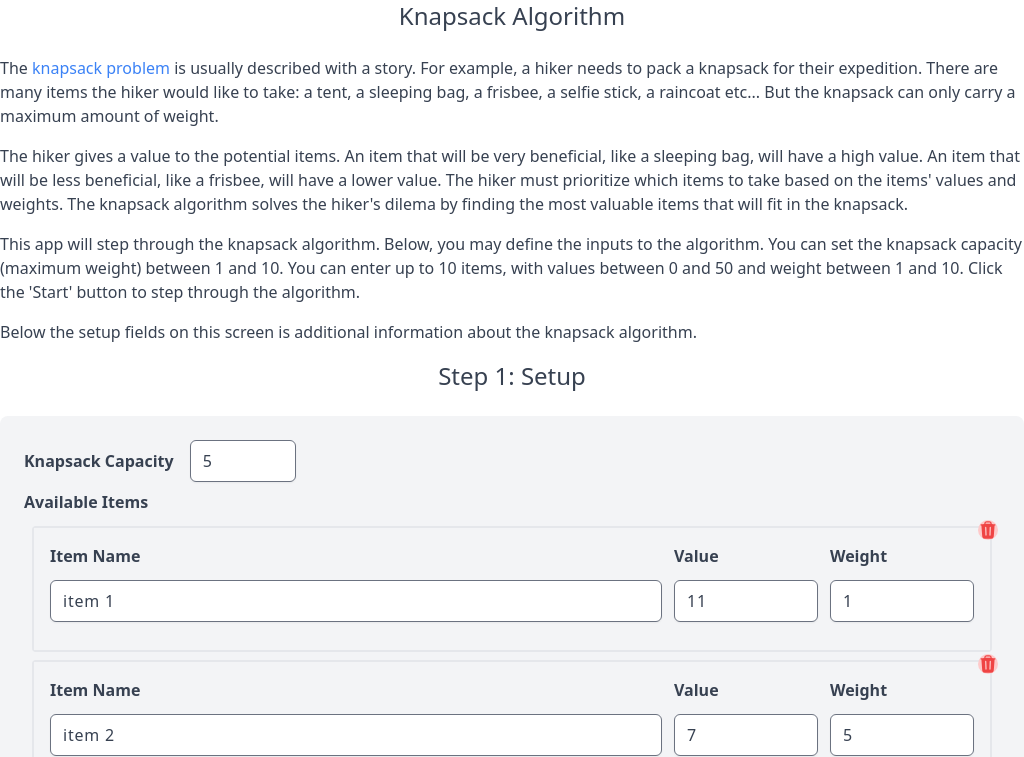
Test: test the setup screen › should treat item names that are the same but with different cases as duplicates
Replace the text in the field showing "item 1" with "ITEM 2" at coordinates (356, 601), box [50,580,662,622]
(page scrolled)
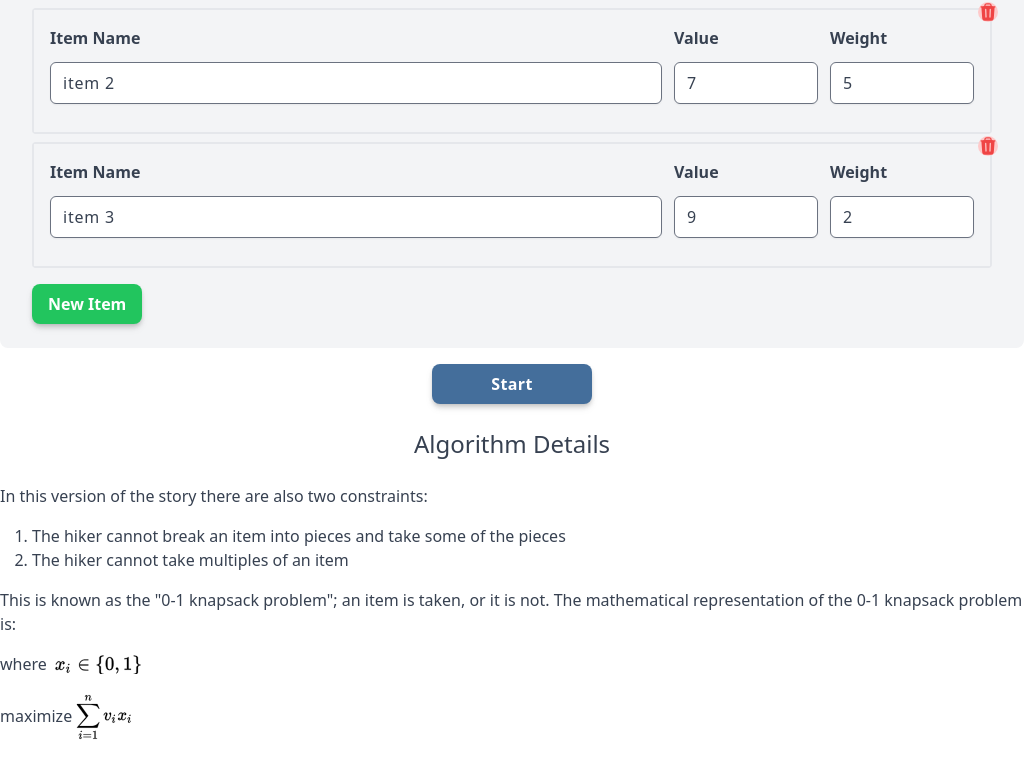
Click the button "Start" at coordinates (512, 384), box [432,364,592,404]
(page scrolled)
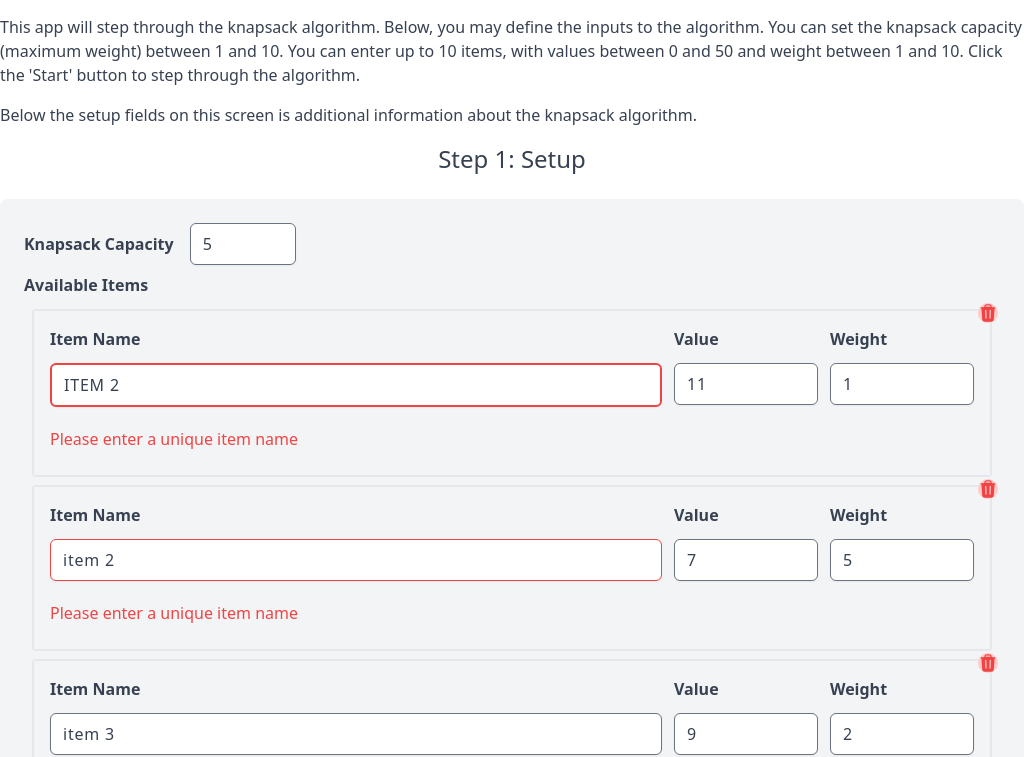
Expected: the number of messages is 2, [50,428,298,450]; [50,602,298,624]
Expected: the 1st text "Please enter a unique item name" is shown, [50,428,298,450]
Expected: the 2nd text "Please enter a unique item name" is shown, [50,602,298,624]
